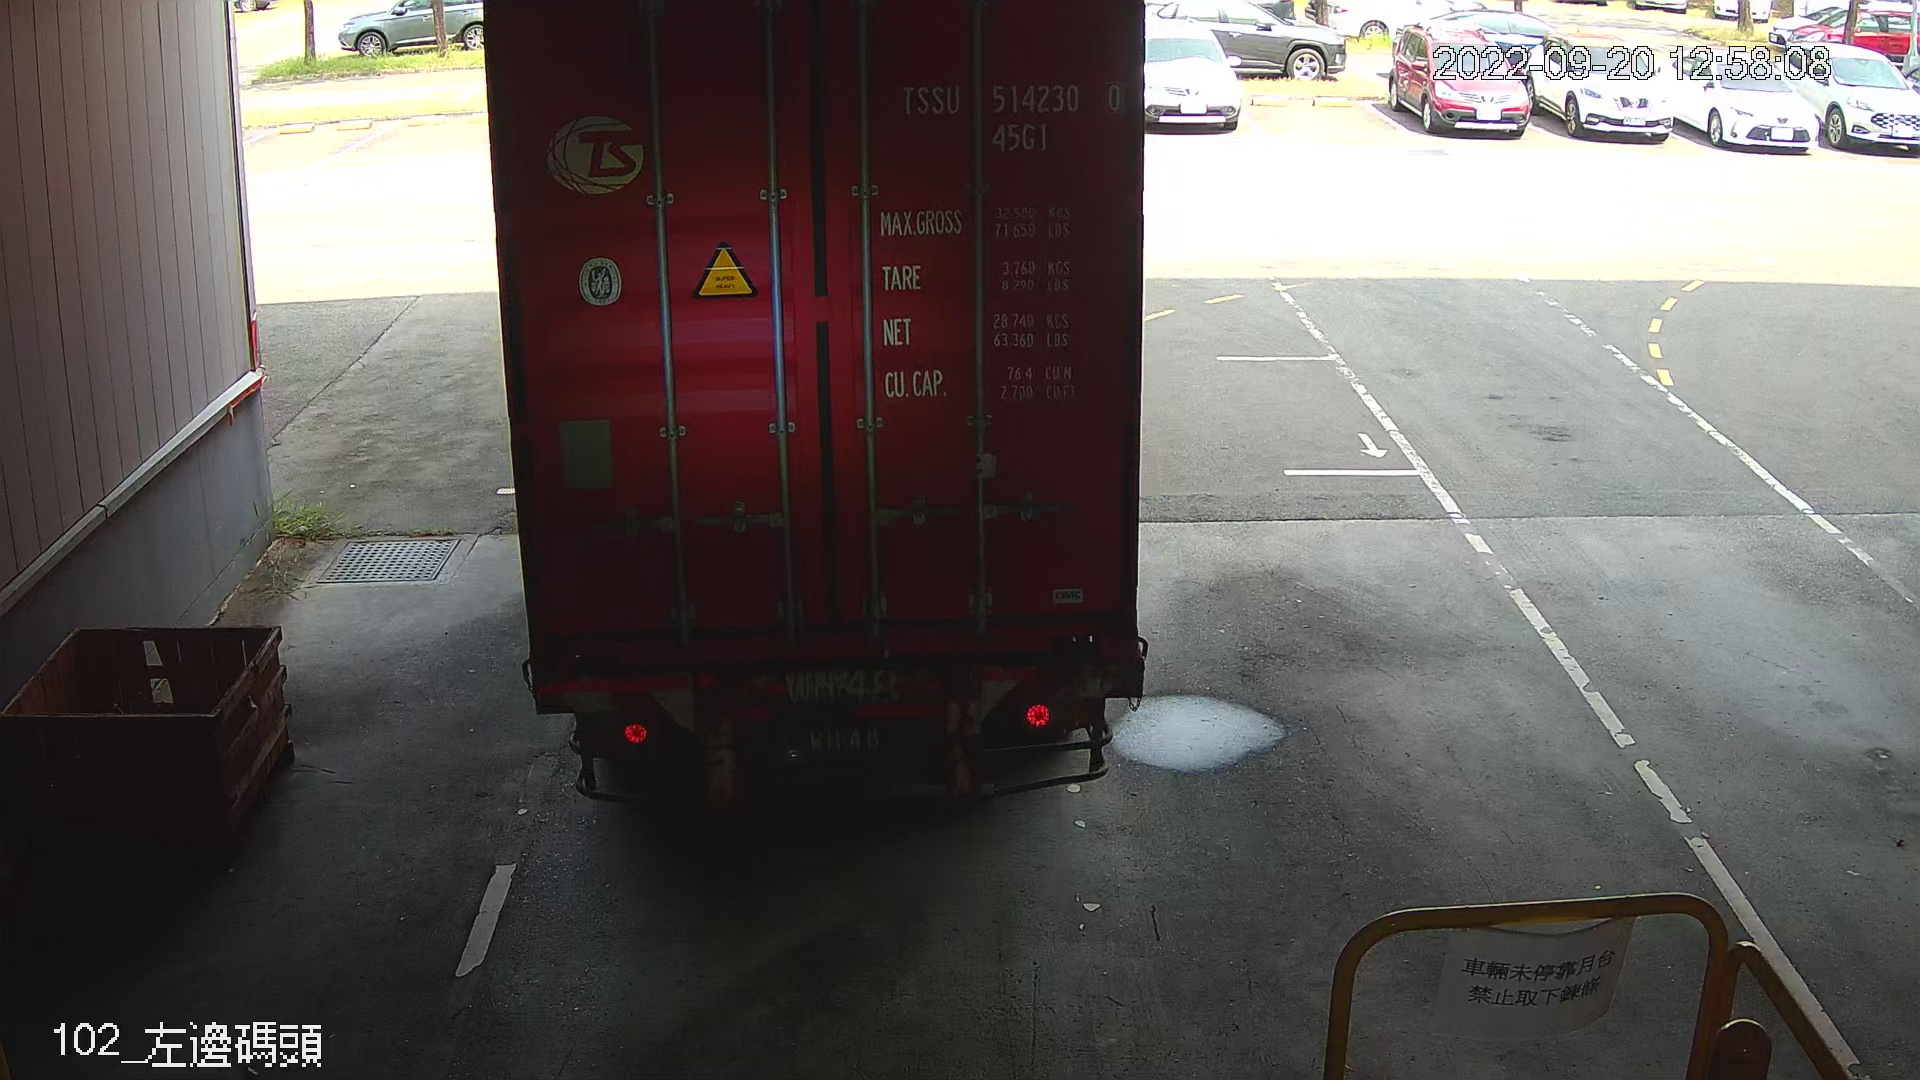container: (891, 70, 1131, 158)
